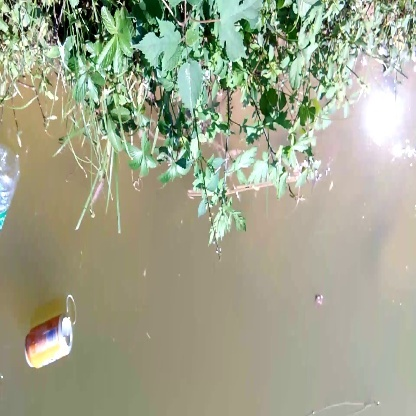bottle: (21, 313, 79, 374)
